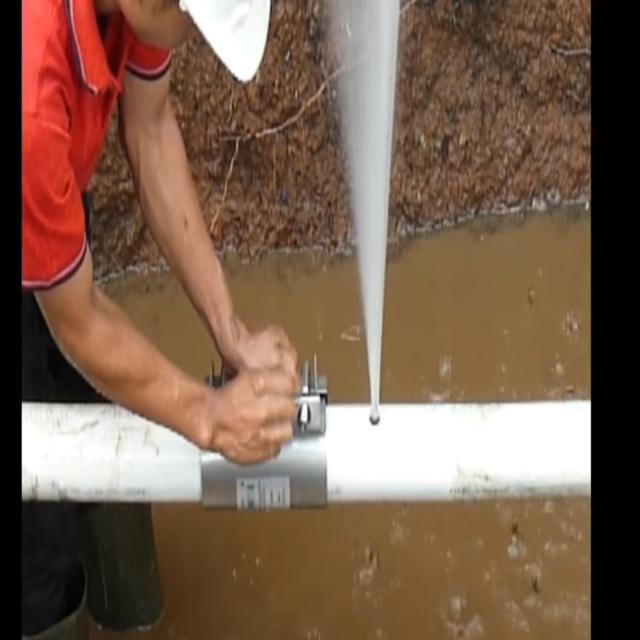leak: (330, 0, 400, 424)
